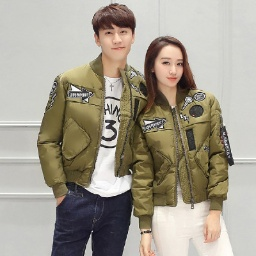face: (141, 34, 194, 102), (89, 3, 136, 63)
